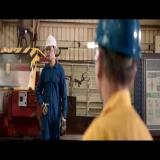Helmet: (94, 18, 141, 60), (46, 36, 57, 50)
